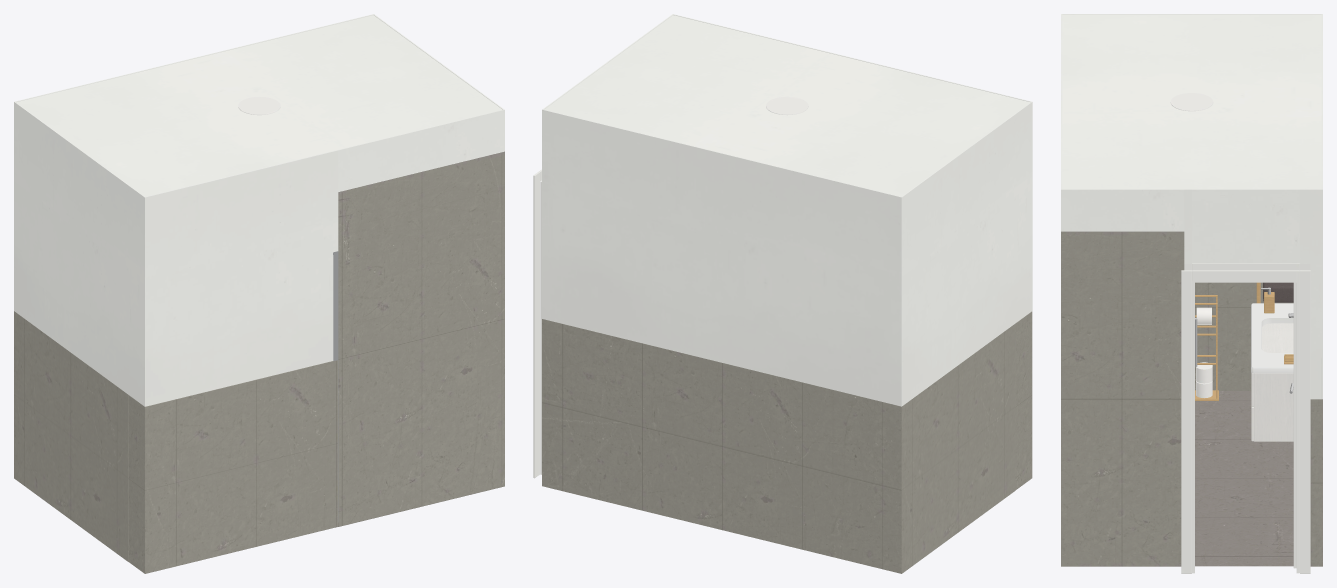
File: katia-bagno.glb
3 renders of one model, left to right at view 1: azimuth 30°, elevation 25°; view 2: azimuth 150°, elevation 25°; view 3: azimuth 270°, elevation 25°, orthographic.
Visible parts, largest first — view 1: Gres doccia sud, Bagno soffitto, Bagno pittura sud, Muretto sanitari, Bagno pittura ovest, Gres ovest, Bagno pittura doccia sud, Doccia alluminio, Bagno pittura nord, Plafoniera bagno; view 2: Bagno pittura nord, Gres nord, Bagno soffitto, Bagno pittura ovest, Gres ovest, Muretto sanitari, Porta bagno, Plafoniera bagno; view 3: Bagno soffitto, Gres doccia est, Pavimento bagno, Porta bagno, Bagno pittura sopra porta, Lavabo, Bagno pittura doccia est, Gres ovest, Bagno pittura est nord, Gres est nord, Portarotolo, Bagno pittura nord (+3 smaller).
Boxes of the visible parts, x1=… form: Gres doccia sud: x1=338, y1=151, x2=504, y2=526; Bagno soffitto: x1=16, y1=15, x2=502, y2=196; Bagno pittura sud: x1=144, y1=150, x2=338, y2=406; Muretto sanitari: x1=128, y1=360, x2=337, y2=573; Bagno pittura ovest: x1=14, y1=102, x2=145, y2=406; Gres ovest: x1=14, y1=311, x2=128, y2=561; Bagno pittura doccia sud: x1=338, y1=109, x2=504, y2=191; Doccia alluminio: x1=333, y1=251, x2=338, y2=522; Bagno pittura nord: x1=14, y1=14, x2=374, y2=310; Plafoniera bagno: x1=238, y1=97, x2=280, y2=115; Bagno pittura nord: x1=542, y1=109, x2=902, y2=406; Gres nord: x1=542, y1=319, x2=902, y2=573; Bagno soffitto: x1=544, y1=15, x2=1029, y2=196; Bagno pittura ovest: x1=900, y1=101, x2=1032, y2=405; Gres ovest: x1=900, y1=323, x2=1015, y2=573; Muretto sanitari: x1=1015, y1=311, x2=1032, y2=489; Porta bagno: x1=533, y1=169, x2=541, y2=478; Plafoniera bagno: x1=766, y1=96, x2=808, y2=115; Bagno soffitto: x1=1062, y1=15, x2=1321, y2=189; Gres doccia est: x1=1061, y1=231, x2=1184, y2=566; Pavimento bagno: x1=1195, y1=391, x2=1293, y2=566; Porta bagno: x1=1181, y1=263, x2=1310, y2=573; Bagno pittura sopra porta: x1=1192, y1=189, x2=1299, y2=263; Lavabo: x1=1251, y1=292, x2=1293, y2=441; Bagno pittura doccia est: x1=1061, y1=189, x2=1184, y2=231; Gres ovest: x1=1195, y1=282, x2=1293, y2=390; Bagno pittura est nord: x1=1300, y1=189, x2=1321, y2=399; Gres est nord: x1=1310, y1=399, x2=1321, y2=566; Portarotolo: x1=1195, y1=295, x2=1218, y2=400; Bagno pittura nord: x1=1321, y1=14, x2=1322, y2=399.
Bounding box in the file's own units: 2.81 × 2.7 × 1.7.
37 materials, 30 textured.
